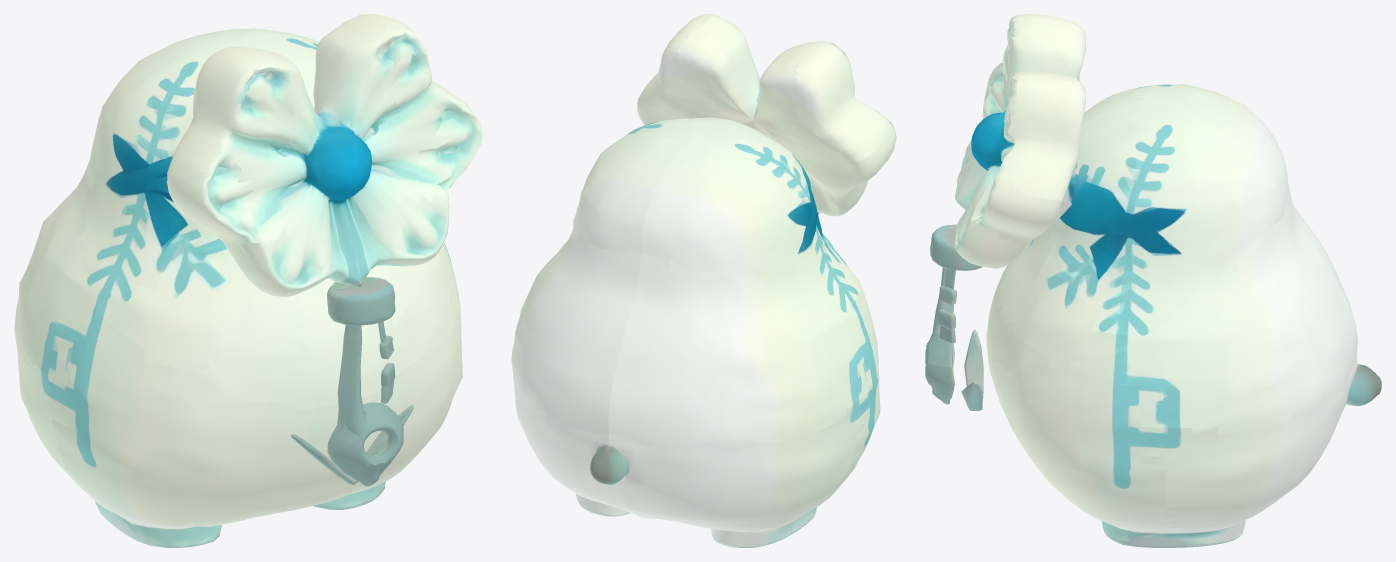
File: s1_gen_ice_key.glb
3 renders of one model, left to right at view 1: azimuth 30°, elevation 25°; view 2: azimuth 150°, elevation 25°; view 3: azimuth 270°, elevation 25°, orthographic. The views are drawn at different scales.
Bounding box in the file's own units: 1.5 × 1.91 × 1.75.
Materials: 1 (1 with a texture image).
